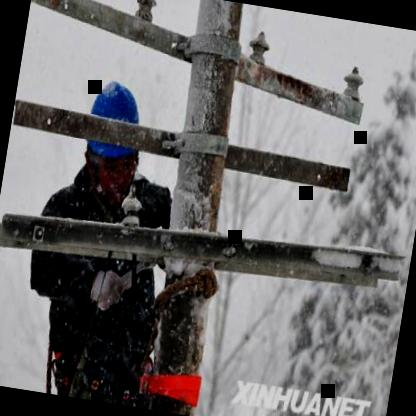helmet: (62, 65, 160, 209)
